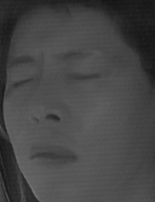blink: (63, 65, 101, 90), (5, 70, 34, 93)
mouth: (24, 137, 81, 171)
